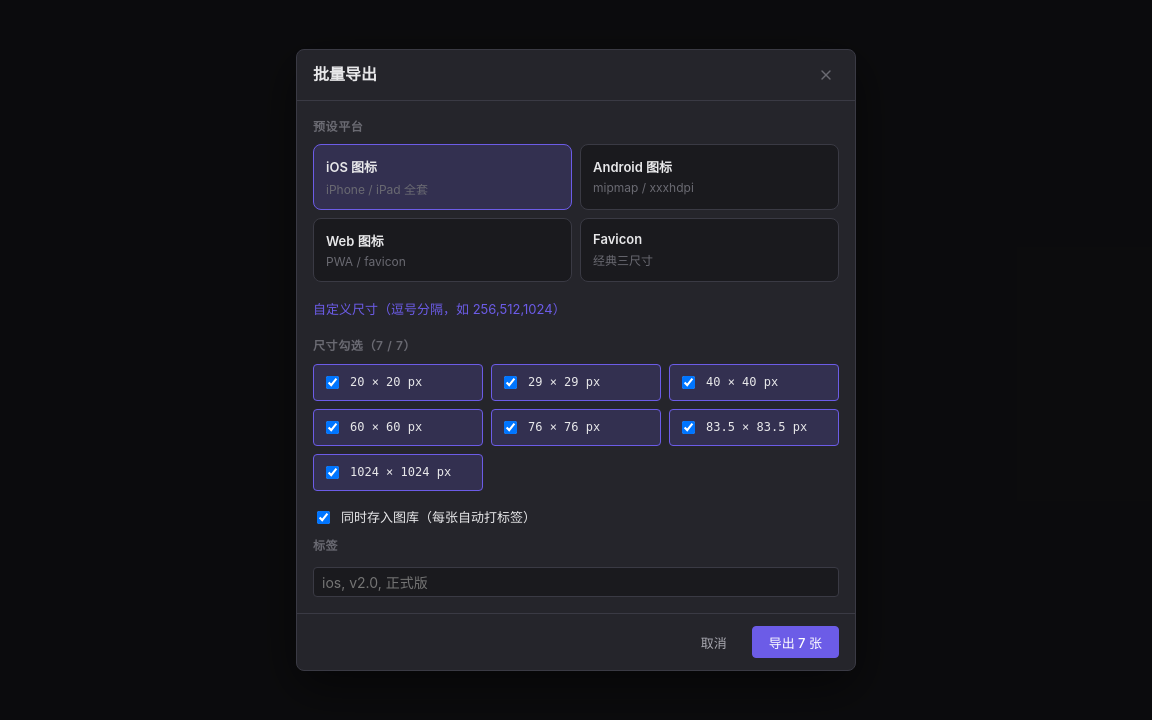
Test: BatchExportDialog › saveToGallery toggle hides tags input when unchecked
The image size is (1152, 720).
Expected: the text "标签" is shown, 313,536 -> 839,597
What coordinates should you click on to do the following:
click the checkbox labelled "同时存入图库（每张自动打标签）"
I would click on:
 (324, 518)
Its box is 317,511 -> 330,524.
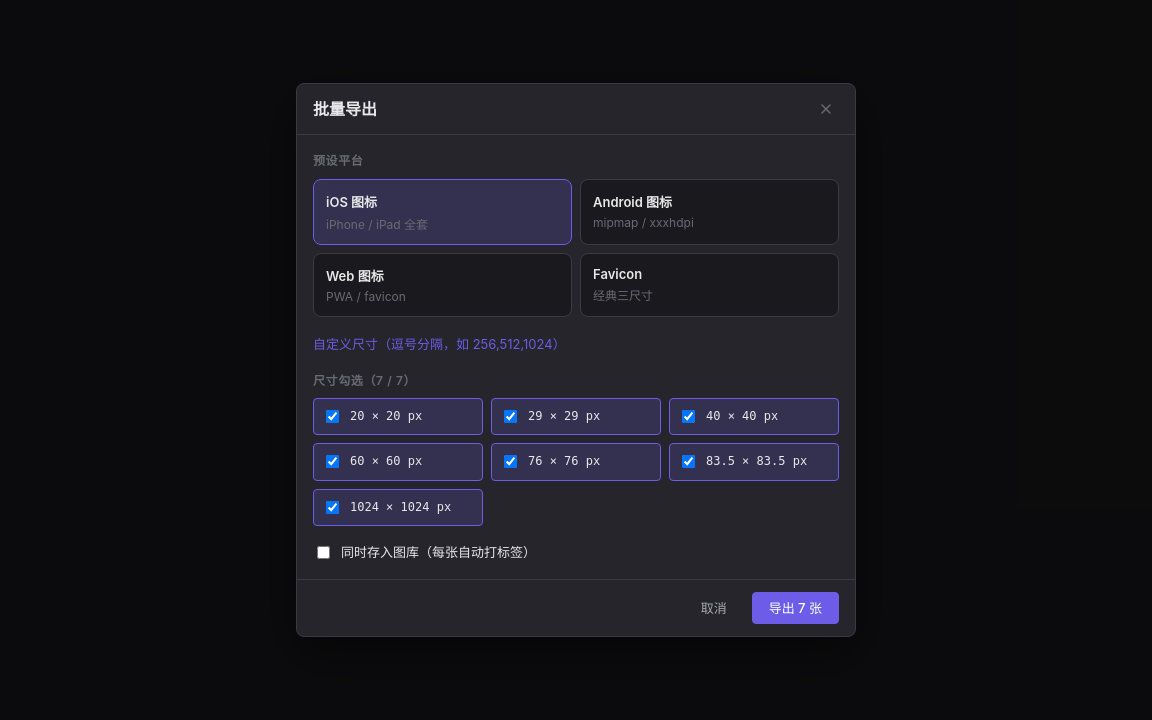
Now the label with class "batch-export__tags" is gone
